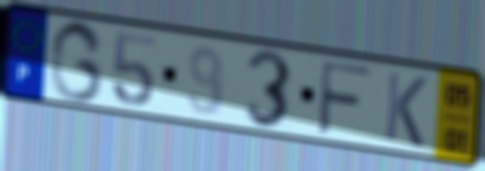3: (243, 48, 296, 132)
5: (109, 27, 158, 108)
9: (186, 42, 230, 119)
F: (314, 57, 374, 139)
G: (46, 18, 107, 105)
K: (381, 68, 430, 151)
